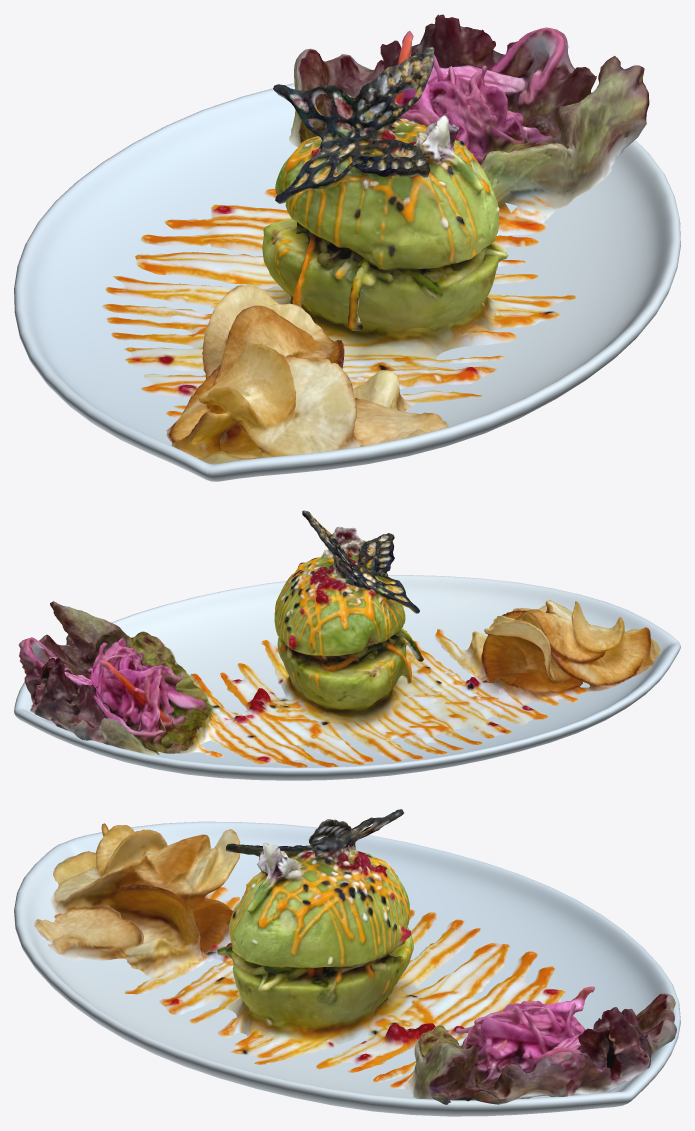
The model's file is Avocado_burger.glb.
The picture shows the model from 3 angles, top to bottom: view 1: azimuth 30°, elevation 25°; view 2: azimuth 150°, elevation 25°; view 3: azimuth 270°, elevation 25°; orthographic projection. The views are drawn at different scales.
Visible parts, largest first — view 1: pCube2, Avocado_burger_plate1; view 2: pCube2, Avocado_burger_plate1; view 3: pCube2, Avocado_burger_plate1.
Part boxes in pixels (box(x1,y1,x2,y2)): pCube2: box(102, 14, 649, 464); Avocado_burger_plate1: box(14, 69, 680, 481); pCube2: box(18, 510, 661, 767); Avocado_burger_plate1: box(14, 575, 680, 780); pCube2: box(34, 809, 676, 1104); Avocado_burger_plate1: box(14, 821, 680, 1116).
Bounding box in the file's own units: 0.2656 × 0.0972 × 0.2587.
2 materials, 2 textured.
